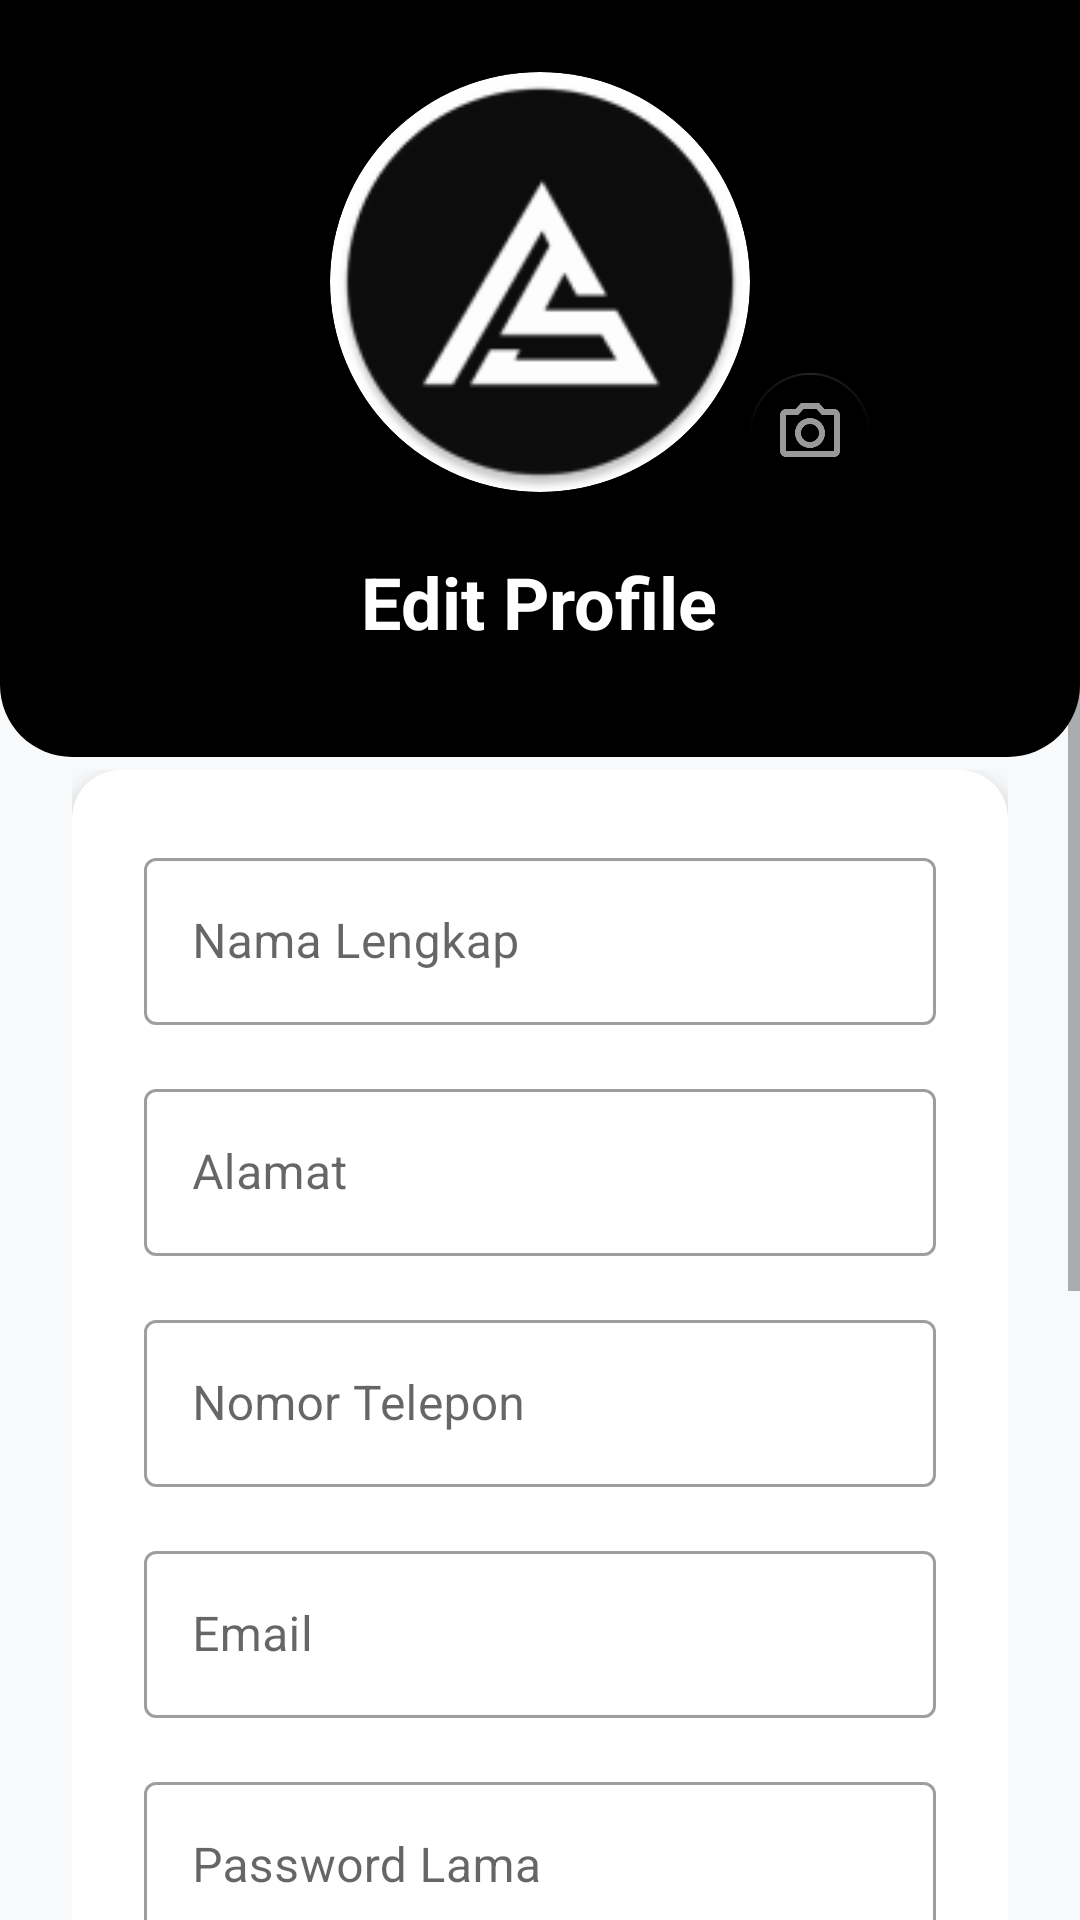

Icon bounding boxes for this 1080 x 1920 phone screenshot, format (left=x1, top=y1, right=x2, bottom=y2):
camera: (left=780, top=373, right=840, bottom=457)
